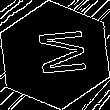M_W: (25, 30, 85, 80)
